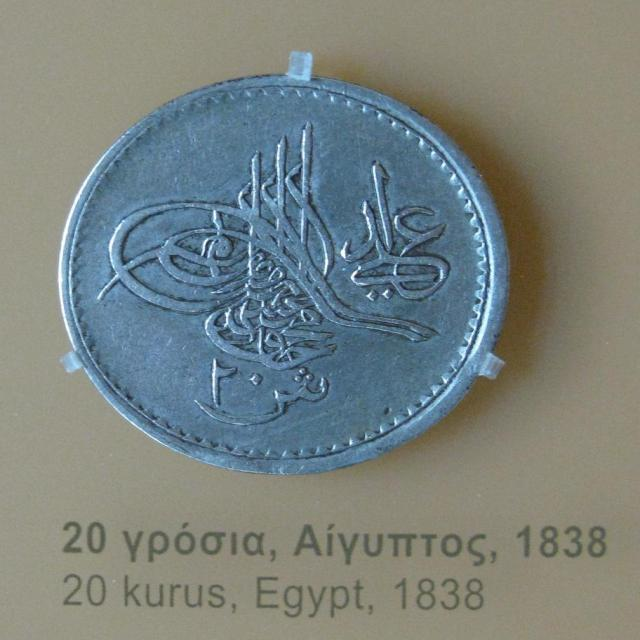Coin: (53, 71, 515, 478)
